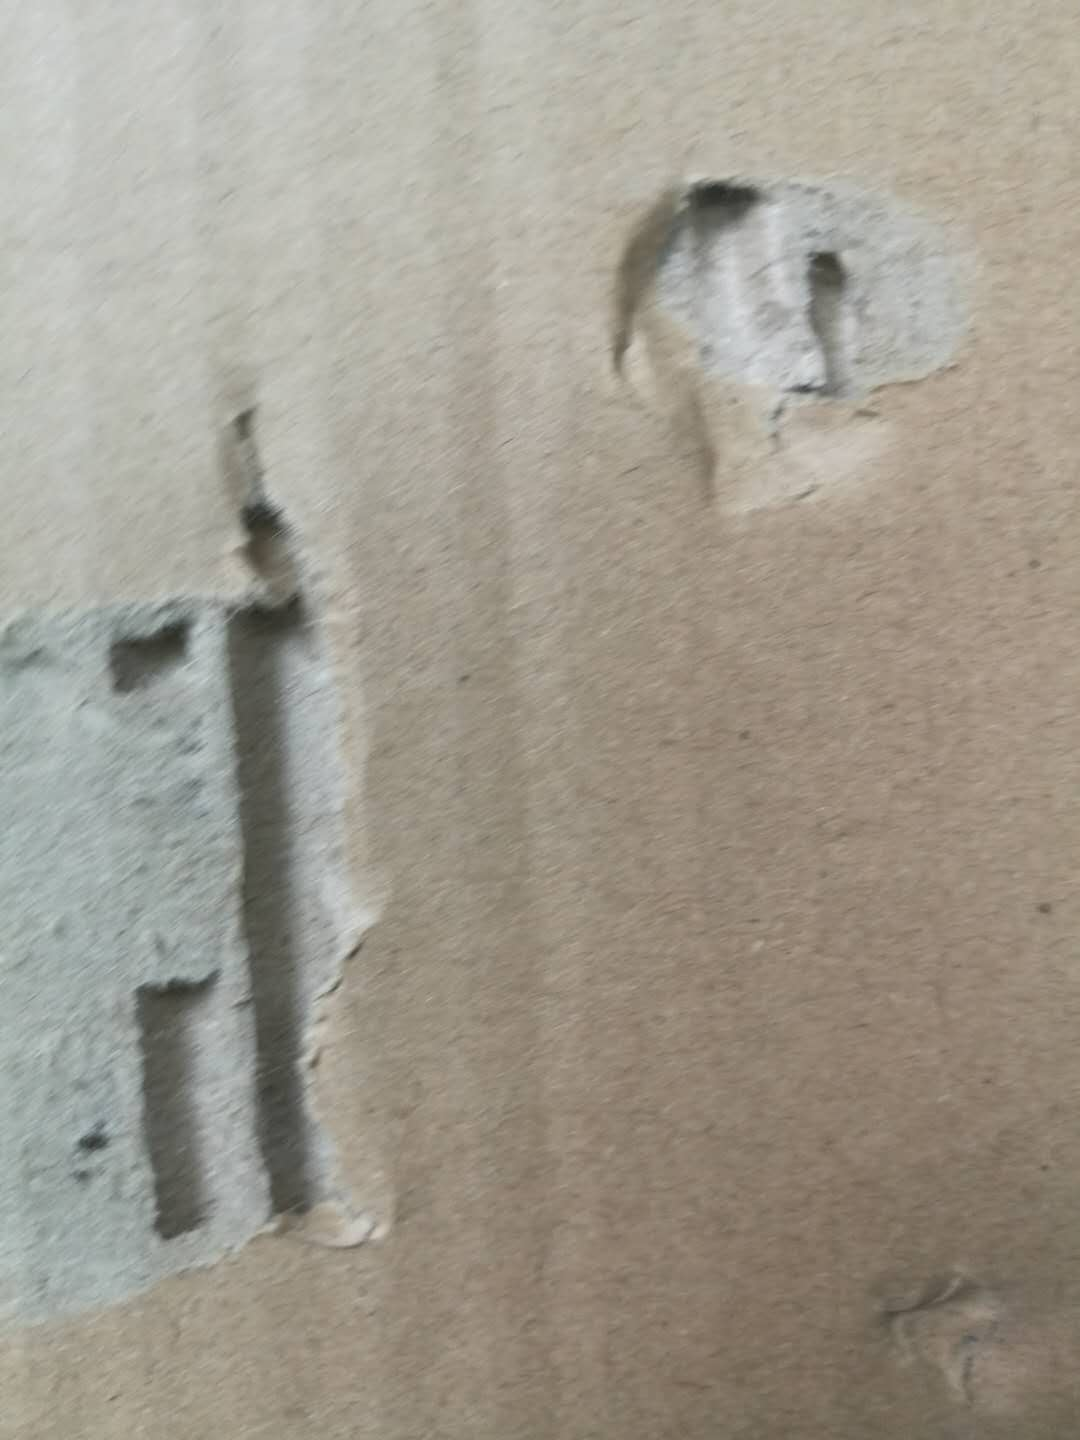defect: (2, 364, 462, 1359), (412, 2, 636, 1440), (592, 142, 1023, 545), (852, 1225, 1080, 1429)
